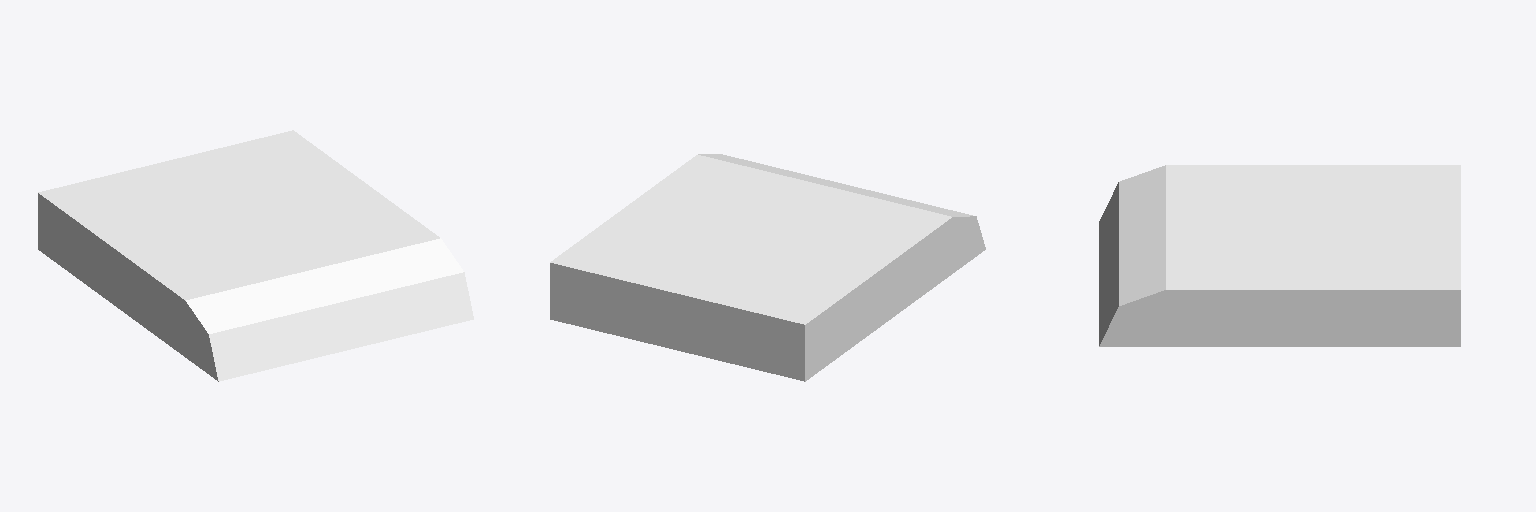
File: roof-flat-awning-c.obj
3 renders of one model, left to right at view 1: azimuth 30°, elevation 25°; view 2: azimuth 150°, elevation 25°; view 3: azimuth 270°, elevation 25°, orthographic.
Parts seen in each view (by area): view 1: roof-flat-awning-c; view 2: roof-flat-awning-c; view 3: roof-flat-awning-c.
Boxes of the visible parts, x1=… form: roof-flat-awning-c: x1=38, y1=130, x2=473, y2=381; roof-flat-awning-c: x1=550, y1=154, x2=985, y2=381; roof-flat-awning-c: x1=1099, y1=165, x2=1460, y2=346.
Bounding box in the file's own units: 1 × 0.2125 × 1.23.